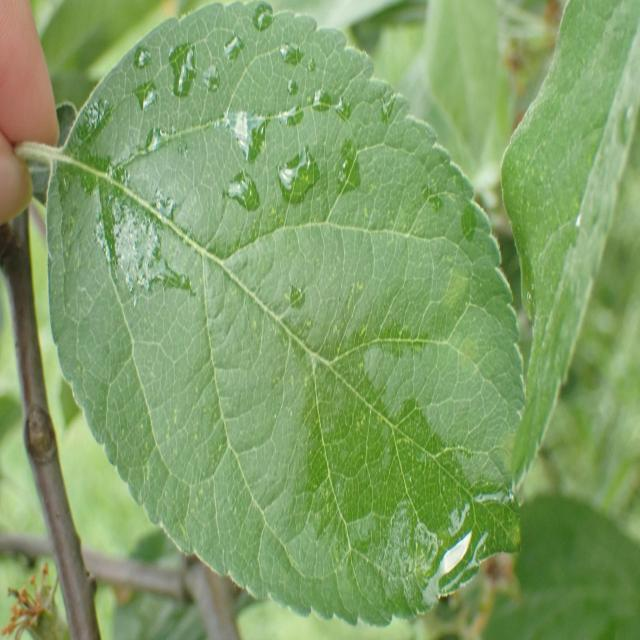scab: (110, 48, 531, 431)
